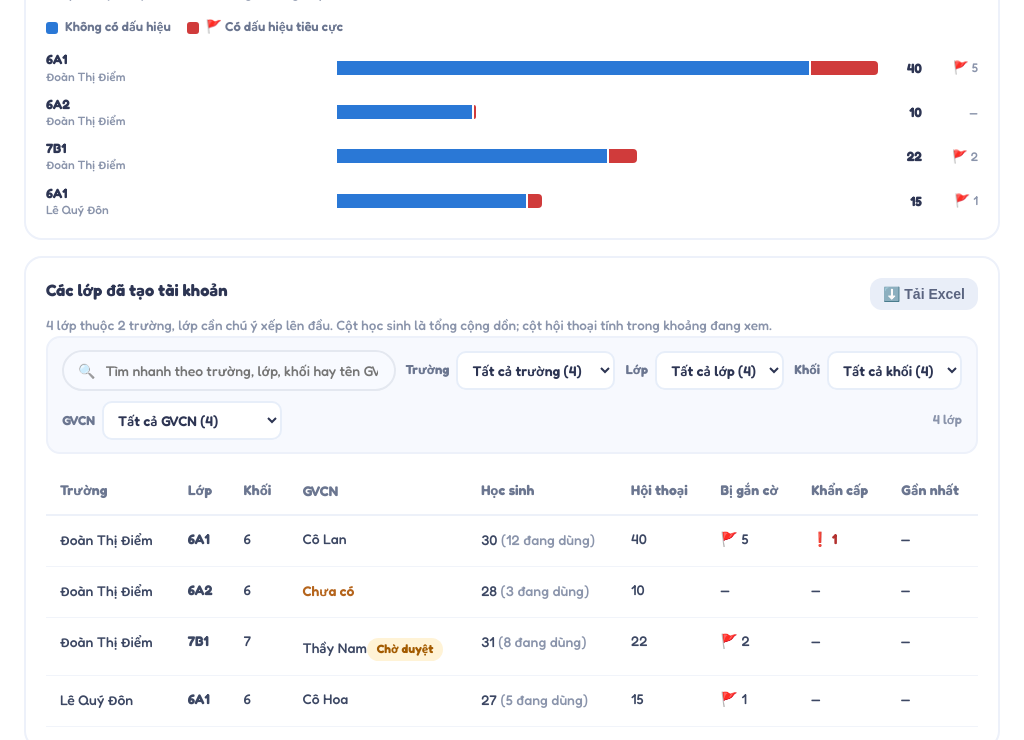
Scenario: lọc theo trường
(page scrolled)
Expected: the table named "Các lớp đã tạo tài khoản" is shown, 46,468 -> 978,727
Select "Lê Quý Đôn (1)" in the dropdown named "Lọc theo Trường" at (536, 370), box 456,351 -> 616,390
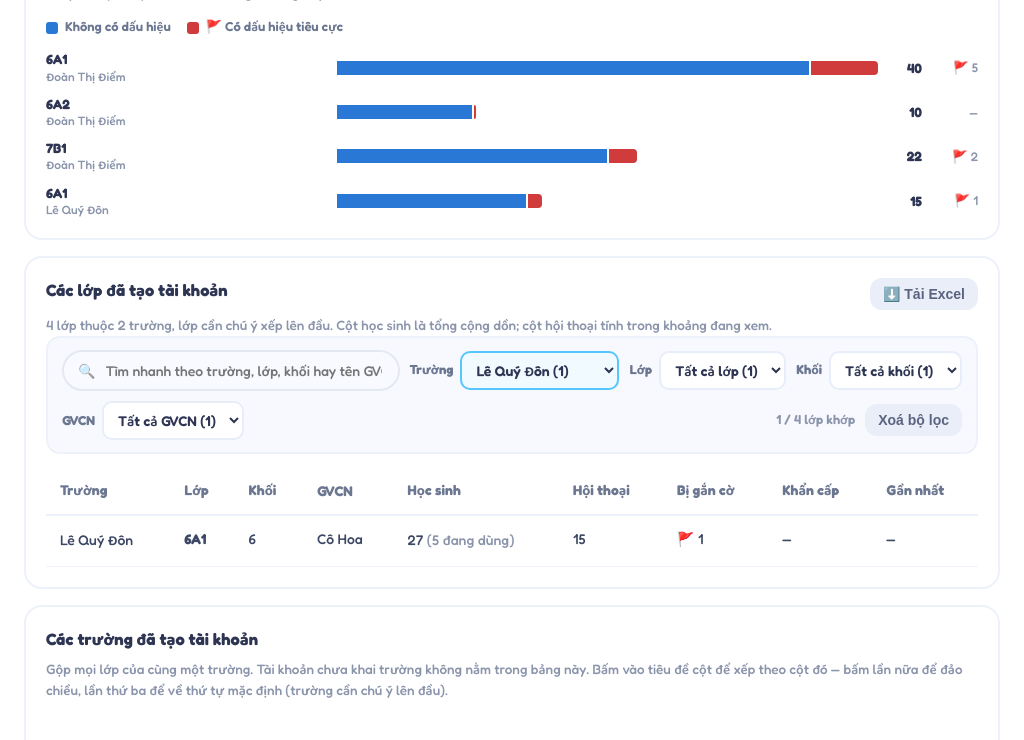
Expected: the text "1 / 4 lớp khớp" is shown, 776,410 -> 855,431
